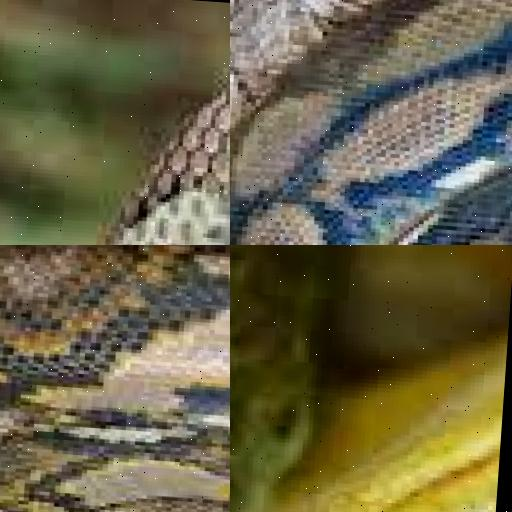snake: (230, 245, 512, 512), (230, 0, 512, 245), (0, 245, 230, 512), (0, 0, 230, 245)
